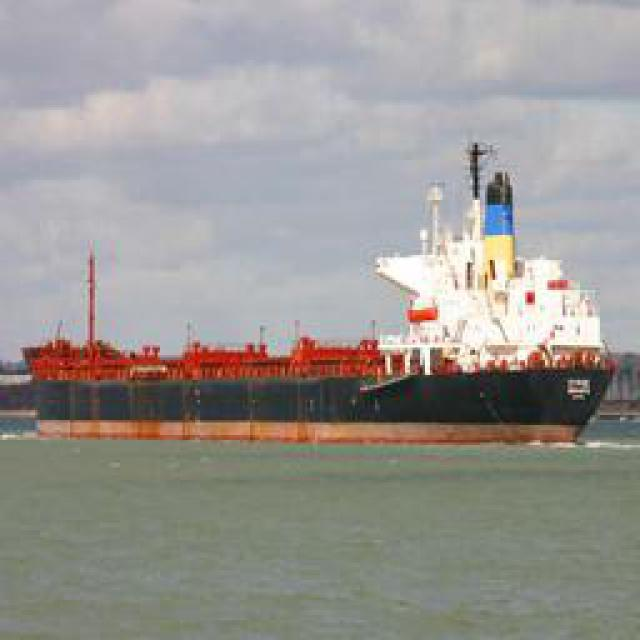Ship: (19, 152, 616, 449)
